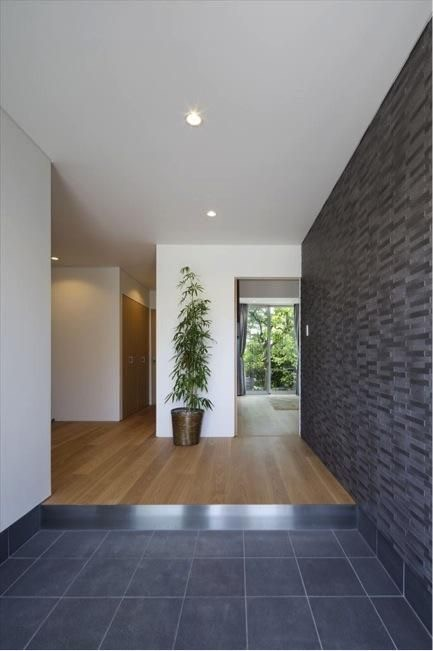floor: (0, 529, 432, 650)
